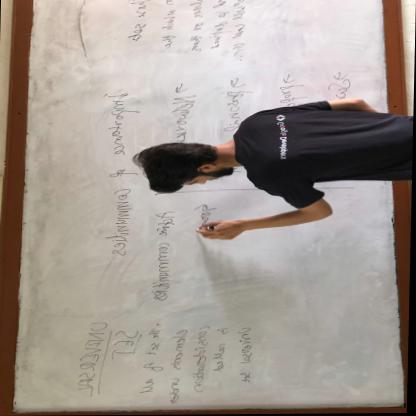Handwritten text: (97, 89, 144, 261), (70, 314, 111, 400), (145, 208, 181, 303), (233, 323, 267, 385), (166, 94, 200, 154), (137, 327, 166, 396), (166, 326, 190, 408), (214, 83, 251, 134), (191, 324, 212, 395), (318, 74, 356, 112), (186, 200, 222, 232), (271, 81, 308, 112), (154, 10, 180, 50), (181, 19, 209, 55), (211, 326, 230, 376), (207, 9, 229, 50), (120, 22, 148, 50), (111, 332, 138, 360)
Lecturer: (126, 102, 406, 198)
Whiteboard: (16, 0, 415, 413)
